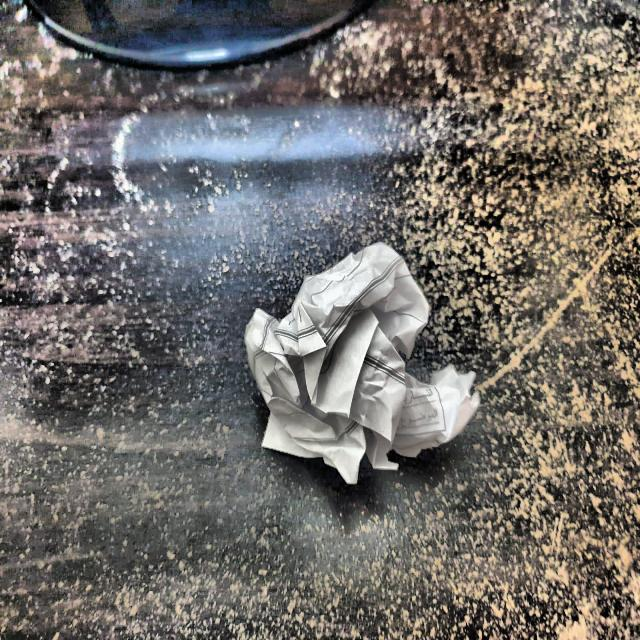Paper: (240, 217, 482, 478)
